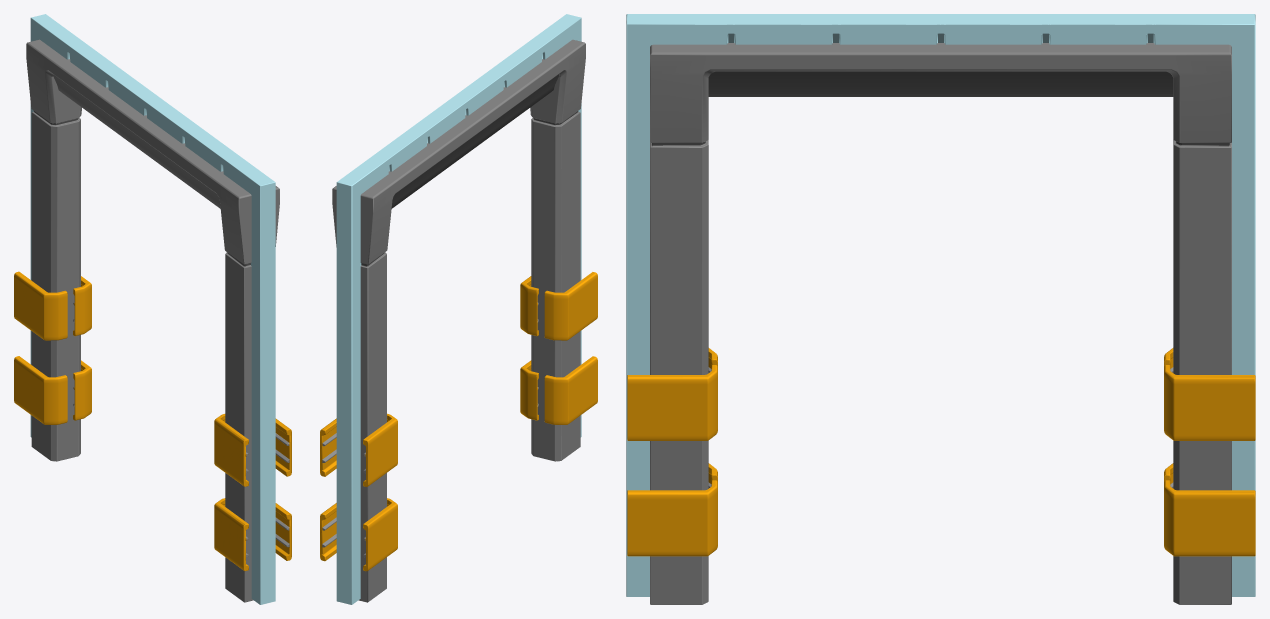
The model's file is refrigerated_doorframe.glb.
3 renders of one model, left to right at view 1: azimuth 30°, elevation 25°; view 2: azimuth 150°, elevation 25°; view 3: azimuth 270°, elevation 25°, orthographic. The views are drawn at different scales.
Parts seen in each view (by area): view 1: Refrigerated_Doorframe; view 2: Refrigerated_Doorframe; view 3: Refrigerated_Doorframe.
Boxes of the visible parts, x1,y1,x2,y2 form: Refrigerated_Doorframe: (14,14,291,604); Refrigerated_Doorframe: (320,14,597,604); Refrigerated_Doorframe: (626,14,1255,604).
Bounding box in the file's own units: 0.4861 × 4.04 × 4.
2 materials, 2 textured.
